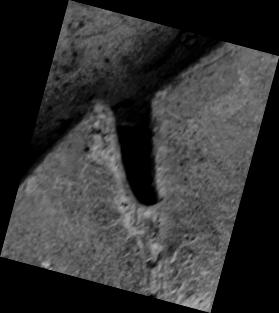crack: (1, 1, 279, 313)
